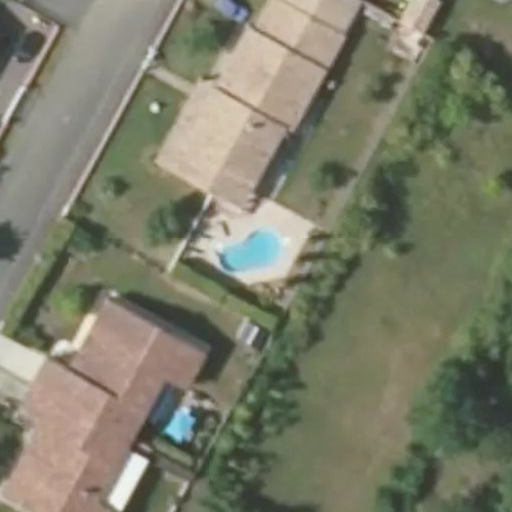pool: (217, 244, 298, 246)
